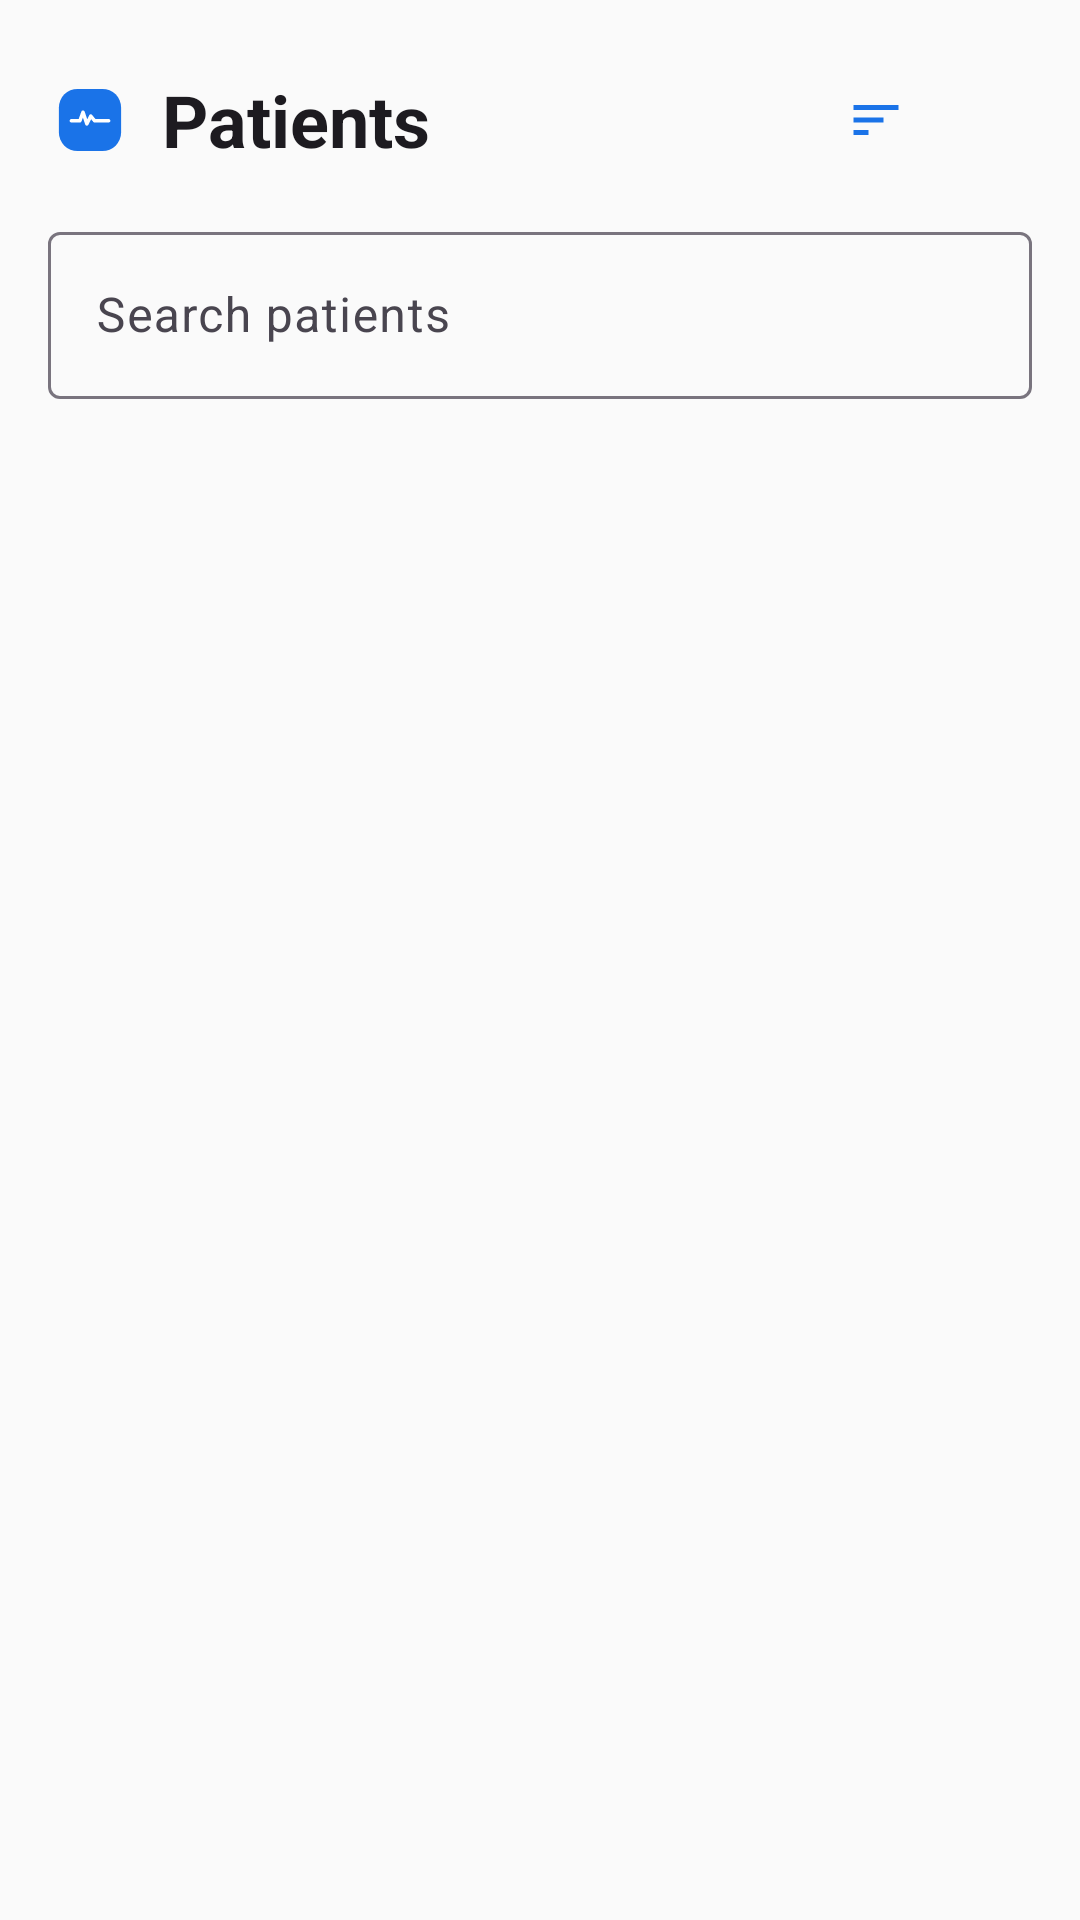

Point at icon controls on the screen. Image size 1080x1920, points as (x,y).
Sort: (876,120)
